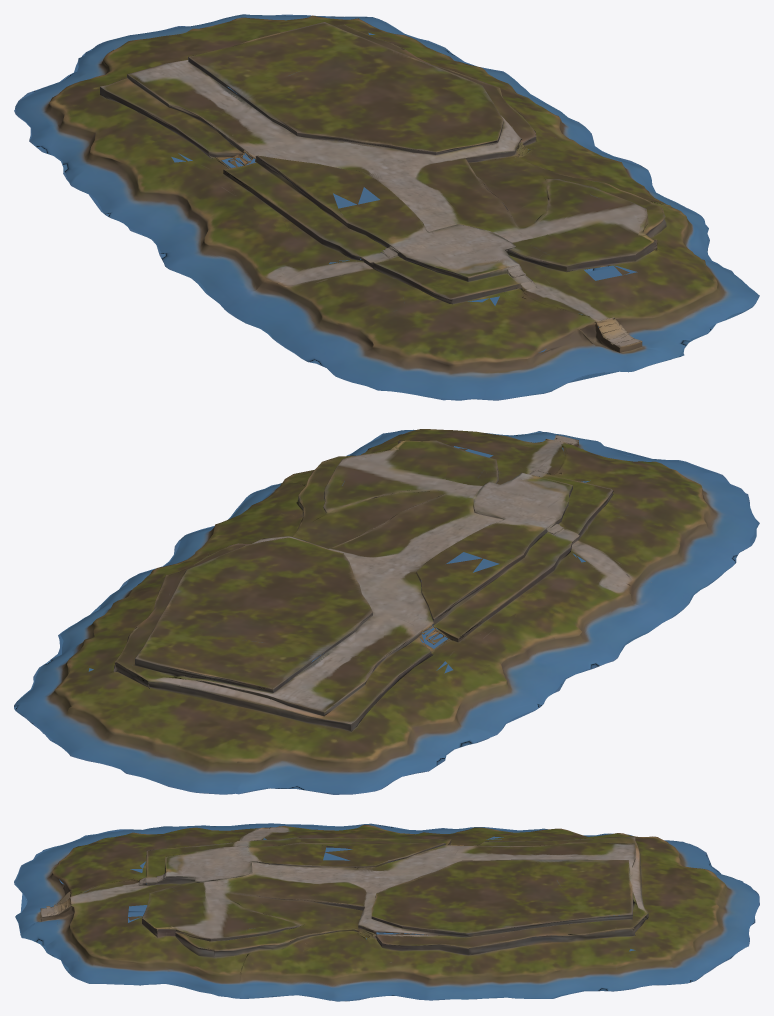
Rendered from Meshy_AI_cemetery_island_terrain_20261111_texture.obj.
The picture shows the model from 3 angles, top to bottom: view 1: azimuth 30°, elevation 25°; view 2: azimuth 150°, elevation 25°; view 3: azimuth 270°, elevation 25°; orthographic projection. The views are drawn at different scales.
Parts seen in each view (by area): view 1: Meshy_AI_cemetery_island_terrain_20261111_texture; view 2: Meshy_AI_cemetery_island_terrain_20261111_texture; view 3: Meshy_AI_cemetery_island_terrain_20261111_texture.
Boxes of the visible parts, bbox=[...] form: Meshy_AI_cemetery_island_terrain_20261111_texture: bbox=[14, 14, 759, 400]; Meshy_AI_cemetery_island_terrain_20261111_texture: bbox=[14, 429, 759, 794]; Meshy_AI_cemetery_island_terrain_20261111_texture: bbox=[14, 823, 759, 1001].
Bounding box in the file's own units: 0.5391 × 0.0522 × 0.9561.
1 material, 1 textured.
